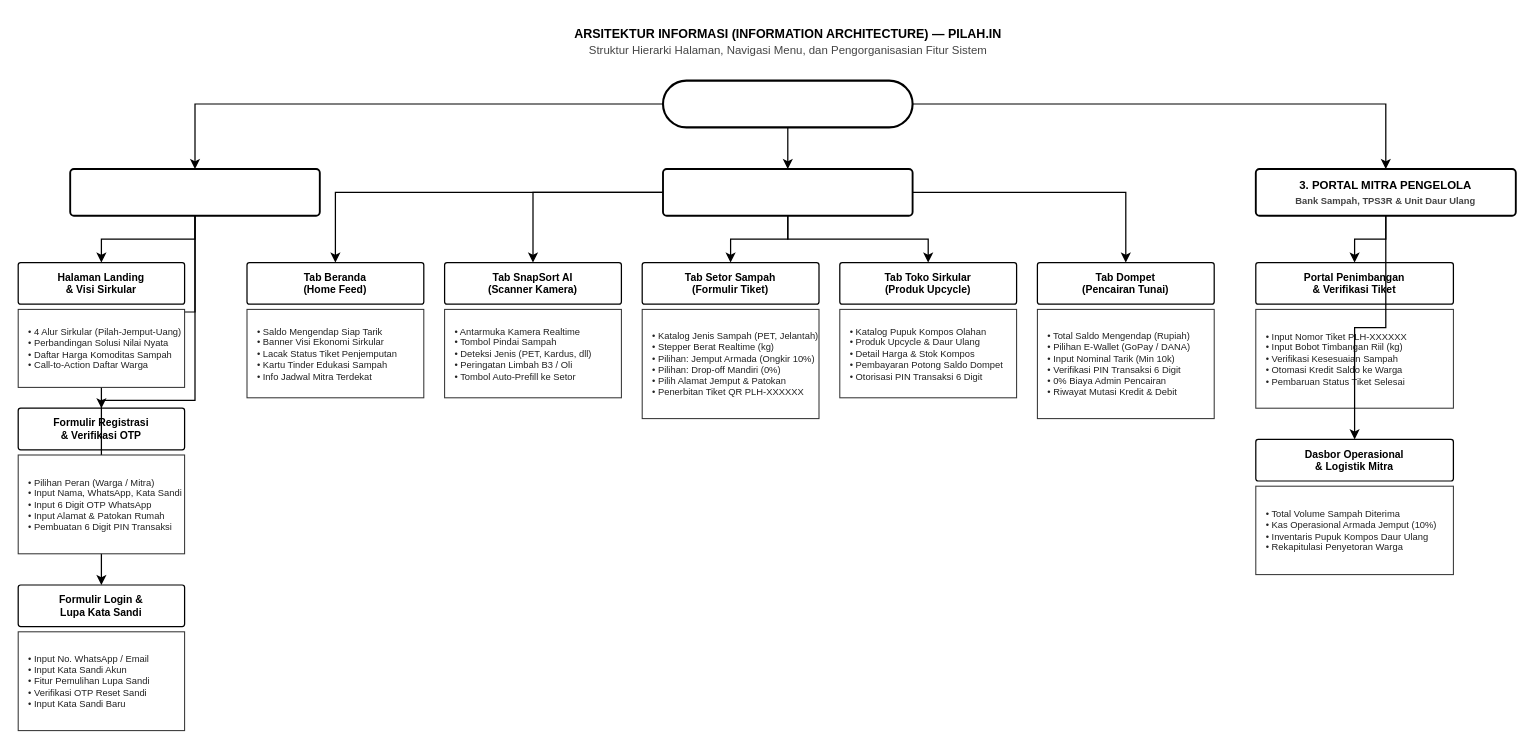
This 1535x749 diagram has some shape labels left out. Here are the shapes that lost their labels. From the top down, the centre of each, then its label:
At pixel 787 103: "PLATFORM PILAH.IN Web Application (Mobile-First)".
At pixel 194 192: "1. AREA PUBLIK & TAMU Landing Page & Autentikasi".
At pixel 787 192: "2. APLIKASI UTAMA WARGA Navigasi 5 Tab Pengguna Penyetor".
